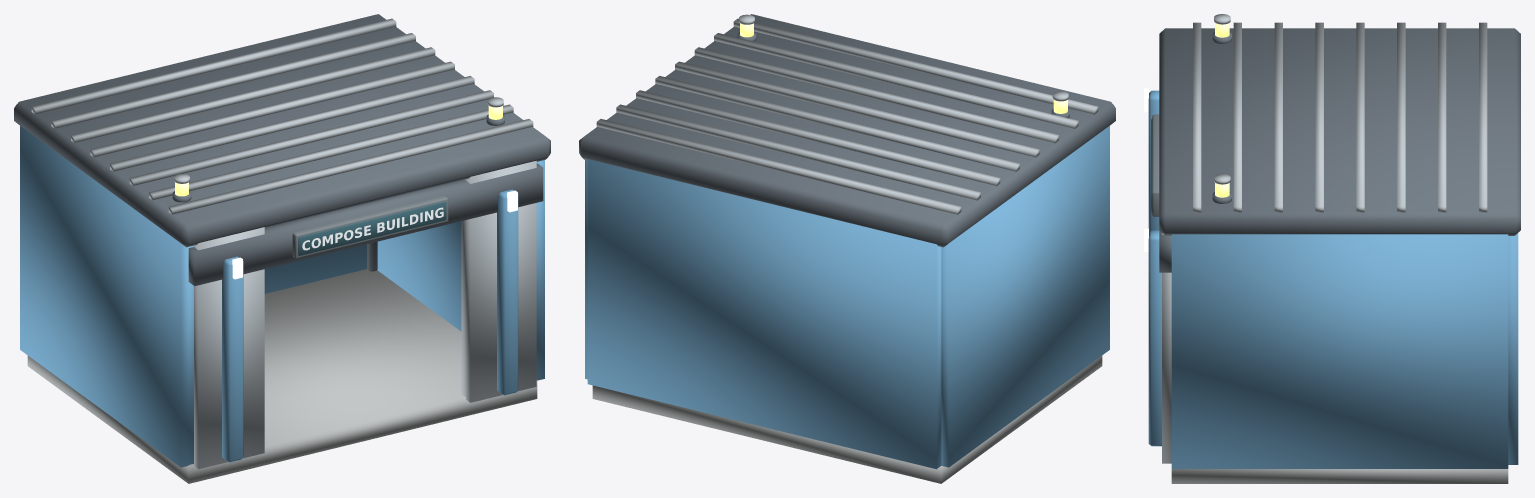
The model's file is compose_building_ultra.glb.
3 renders of one model, left to right at view 1: azimuth 30°, elevation 25°; view 2: azimuth 150°, elevation 25°; view 3: azimuth 270°, elevation 25°, orthographic. The views are drawn at different scales.
Visible parts, largest first — view 1: Wall_blue_legacy_1, Roof_dark_legacy_2, Foundation_concrete_legacy_0, RoofRib_steel_legacy_12, FrontFrame_steel_legacy_3, Header_dark_legacy_4, PortalTrim_blue_legacy_15, SignPlate_glass, ScreenMount_frame, TypeLabel_white; view 2: Wall_blue_legacy_1, Roof_dark_legacy_2, RoofRib_steel_legacy_12, Foundation_concrete_legacy_0; view 3: Wall_blue_legacy_1, Roof_dark_legacy_2, RoofRib_steel_legacy_12, Foundation_concrete_legacy_0, PortalTrim_blue_legacy_15, FrontFrame_steel_legacy_3, ScreenMount_frame, Header_dark_legacy_4, StatusLight_warn_legacy_10.
Part boxes in pixels (x1,y1,x2,y2): Wall_blue_legacy_1: (20, 125, 544, 467); Roof_dark_legacy_2: (14, 14, 550, 247); Foundation_concrete_legacy_0: (27, 269, 537, 483); RoofRib_steel_legacy_12: (31, 18, 533, 214); FrontFrame_steel_legacy_3: (194, 160, 536, 469); Header_dark_legacy_4: (188, 163, 543, 285); PortalTrim_blue_legacy_15: (222, 189, 518, 462); SignPlate_glass: (298, 201, 446, 255); ScreenMount_frame: (292, 196, 448, 258); TypeLabel_white: (302, 207, 443, 250); Wall_blue_legacy_1: (585, 125, 1109, 469); Roof_dark_legacy_2: (579, 14, 1115, 247); RoofRib_steel_legacy_12: (596, 18, 1098, 214); Foundation_concrete_legacy_0: (592, 356, 1102, 483); Wall_blue_legacy_1: (1171, 233, 1518, 468); Roof_dark_legacy_2: (1159, 28, 1520, 235); RoofRib_steel_legacy_12: (1193, 22, 1487, 212); Foundation_concrete_legacy_0: (1171, 469, 1508, 483); PortalTrim_blue_legacy_15: (1148, 90, 1161, 446); FrontFrame_steel_legacy_3: (1162, 233, 1171, 463); ScreenMount_frame: (1152, 114, 1159, 216); Header_dark_legacy_4: (1159, 230, 1171, 272); StatusLight_warn_legacy_10: (1215, 23, 1229, 197).
Size of the model in its own units: 5.3 by 3.9 by 4.48.
